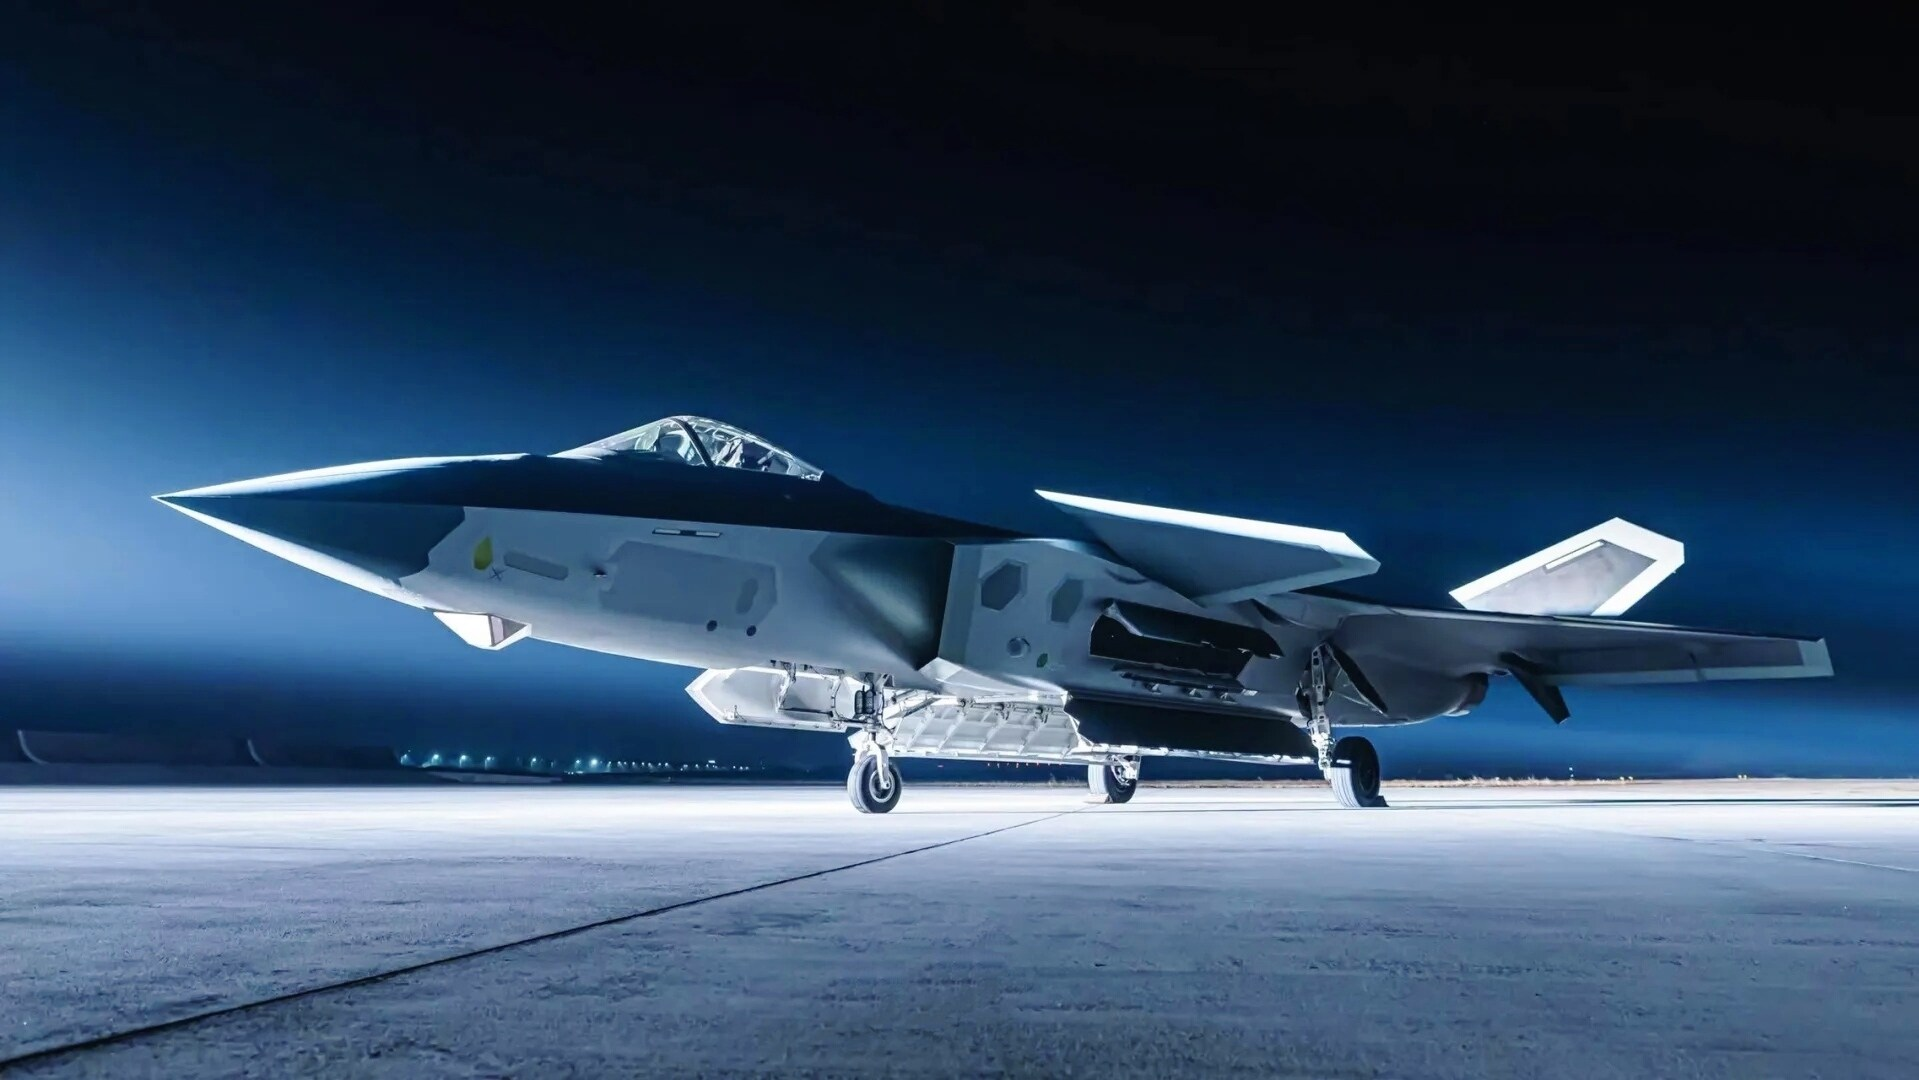J20: (149, 415, 1835, 814)
